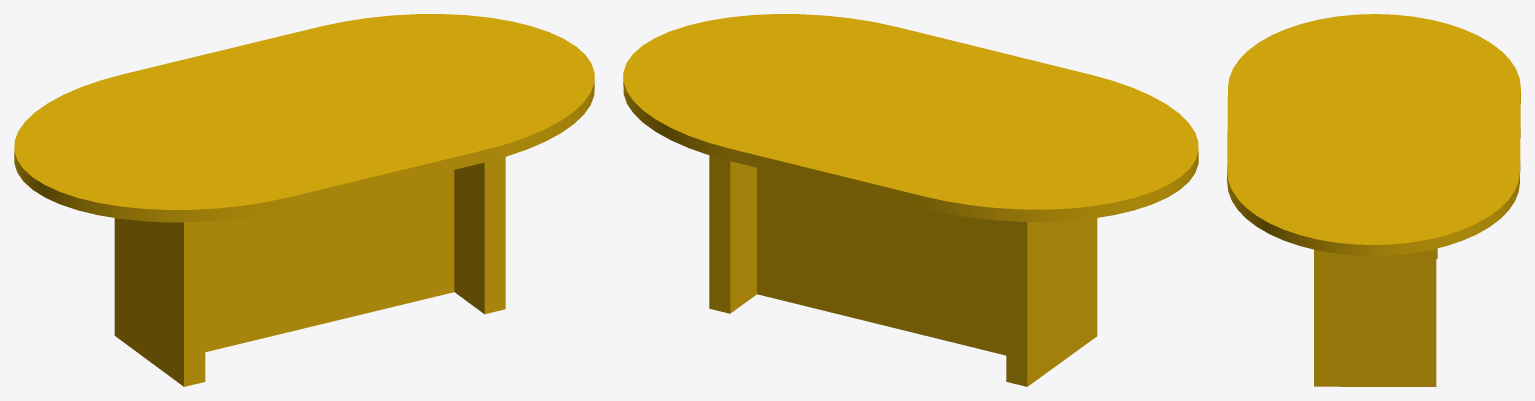
File: OM_meeting_table.fbx
The picture shows the model from 3 angles, left to right: view 1: azimuth 30°, elevation 25°; view 2: azimuth 150°, elevation 25°; view 3: azimuth 270°, elevation 25°; orthographic projection. The views are drawn at different scales.
Visible parts, largest first — view 1: OM_meeting_table_top, OM_meeting_table_bottom; view 2: OM_meeting_table_top, OM_meeting_table_bottom; view 3: OM_meeting_table_top, OM_meeting_table_bottom.
Boxes of the visible parts, bbox=[...] form: OM_meeting_table_top: bbox=[14, 14, 594, 222]; OM_meeting_table_bottom: bbox=[114, 157, 505, 386]; OM_meeting_table_top: bbox=[623, 14, 1198, 221]; OM_meeting_table_bottom: bbox=[709, 155, 1097, 386]; OM_meeting_table_top: bbox=[1227, 14, 1520, 255]; OM_meeting_table_bottom: bbox=[1314, 248, 1437, 386].
Bounding box in the file's own units: 8.28 × 3.11 × 4.45.
